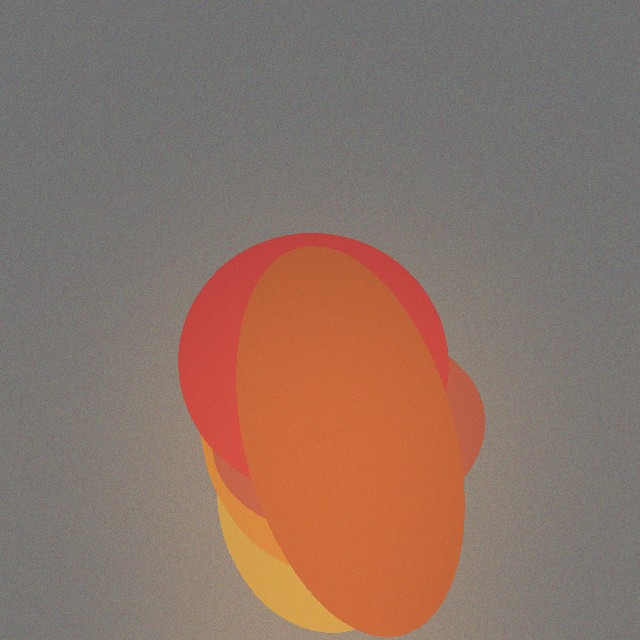fire: (189, 369, 457, 541)
